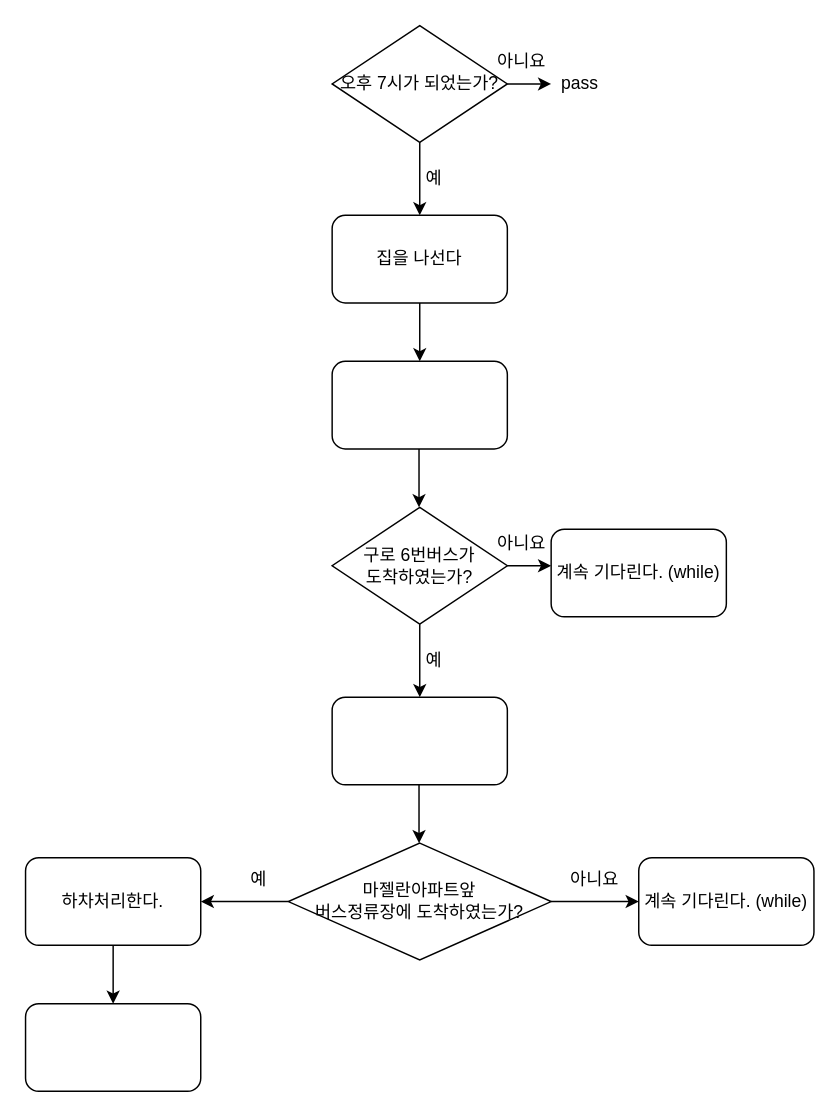
The diagram is 840 pixels wide and 1117 high, and some of its shapes have lost their labels. Each missing label, with the centre of its shape:
"버스에 탑승한다." goes at (419,740).
"정류장에 도착한다." goes at (419,404).
"학원에 도착한다." goes at (112,1046).
